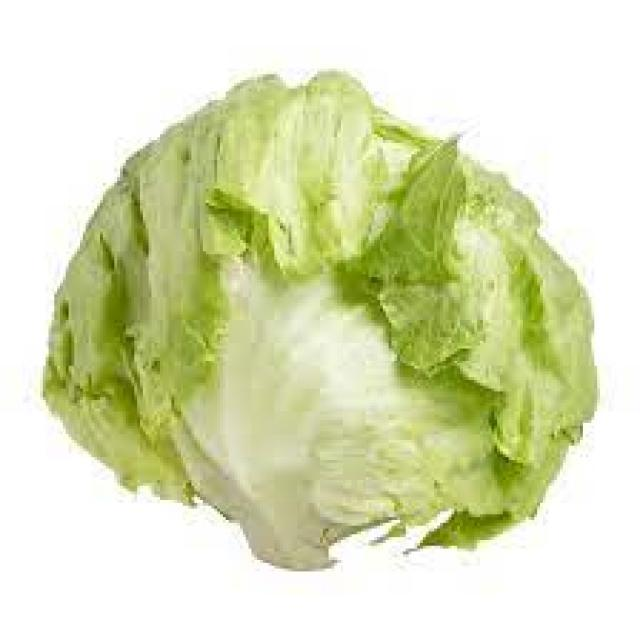Lettuce: (42, 59, 603, 578)
